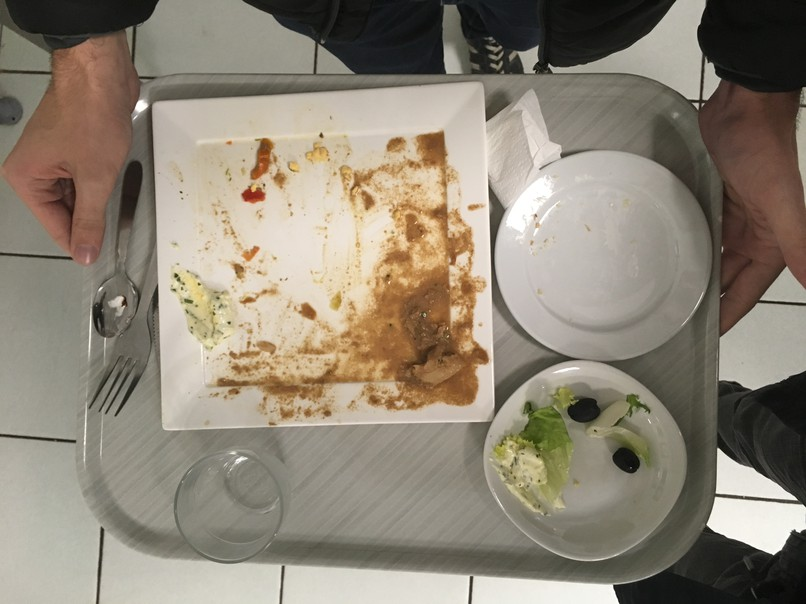cup: (169, 444, 301, 576)
cutlery: (77, 156, 169, 438)
orga: (504, 398, 575, 524), (401, 305, 485, 395), (584, 389, 659, 477), (168, 259, 240, 350)
trash: (481, 81, 562, 209)
